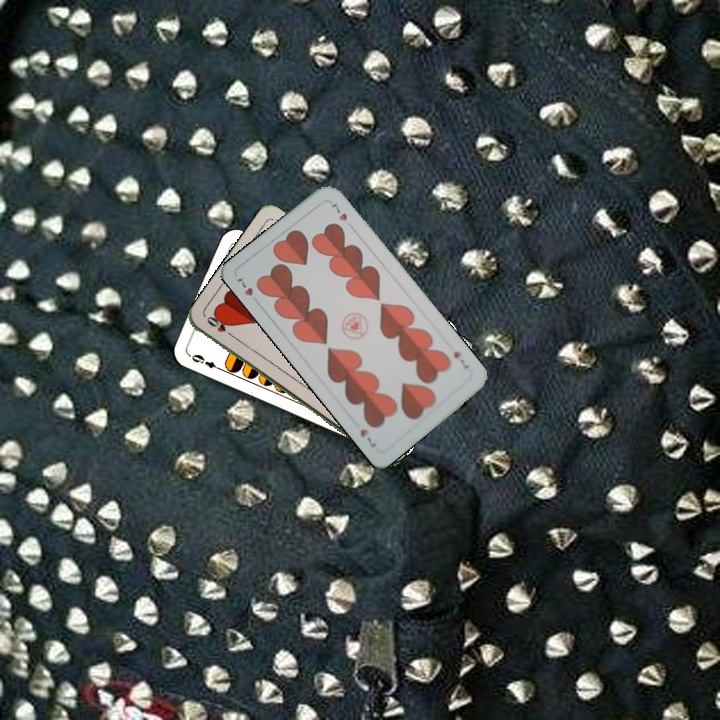E9: (187, 350, 224, 373)
H7: (232, 274, 262, 307), (450, 347, 472, 371)
HO: (202, 312, 238, 341)
